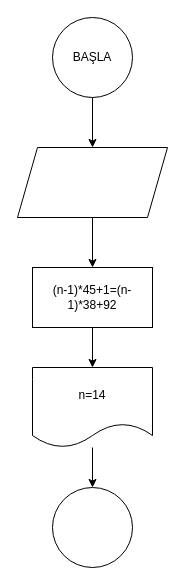
Some shapes in this 185 by 585 pixel diagram are drawn without their labels. Here are the shapes that lost their labels. From the top down, the centre of each, then its label:
the point at 92,182: Aritmetik ort=tüm sayılar toplamı/sayı sayısı
the point at 92,527: DUR
